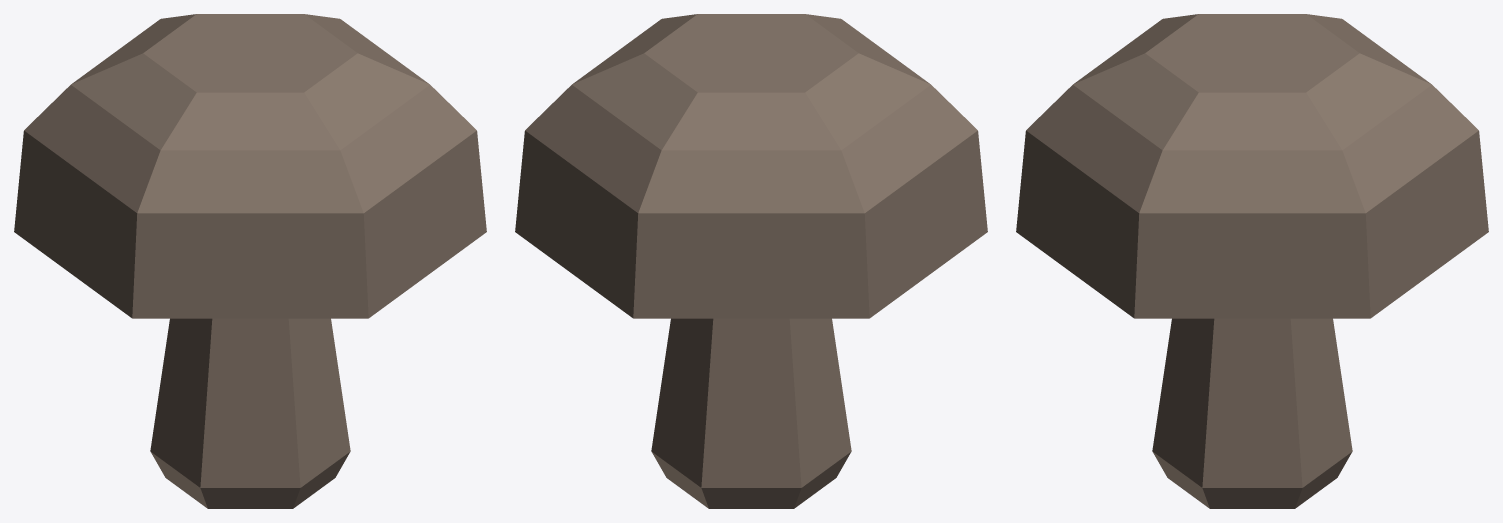
The model's file is mushroom-00a86c06f6.glb.
3 renders of one model, left to right at view 1: azimuth 30°, elevation 25°; view 2: azimuth 150°, elevation 25°; view 3: azimuth 270°, elevation 25°, orthographic.
Visible parts, largest first — view 1: Mushroom.obj; view 2: Mushroom.obj; view 3: Mushroom.obj.
Part boxes in pixels (box(x1,y1,x2,y2)): Mushroom.obj: box(14, 14, 486, 508); Mushroom.obj: box(515, 14, 987, 508); Mushroom.obj: box(1016, 14, 1488, 508).
Bounding box in the file's own units: 0.3581 × 0.4096 × 0.4135.
